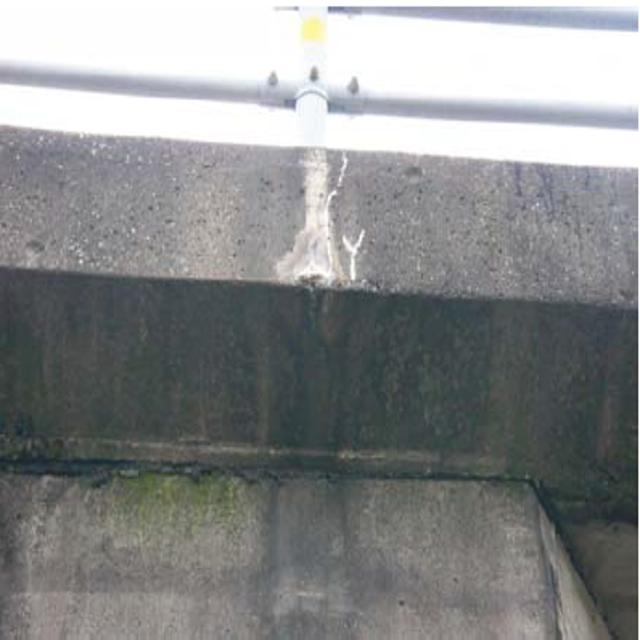freelime: (267, 144, 377, 307)
